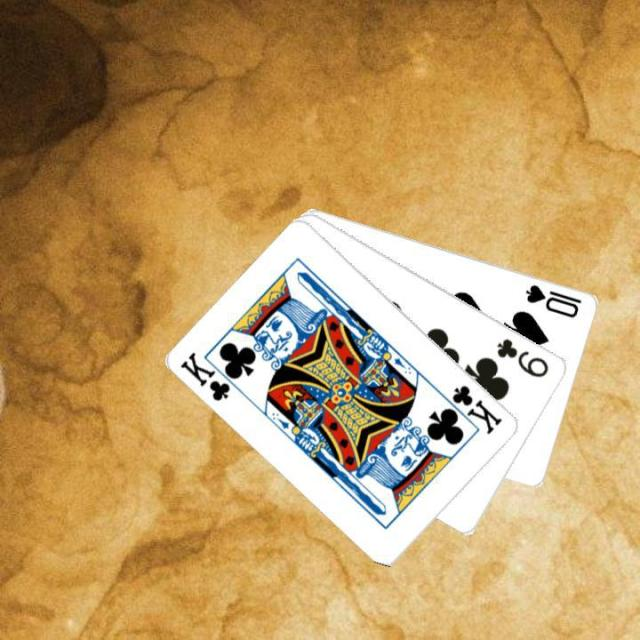10S: (522, 280, 584, 320)
9C: (493, 334, 551, 380)
KC: (177, 348, 245, 404), (436, 382, 505, 436)
